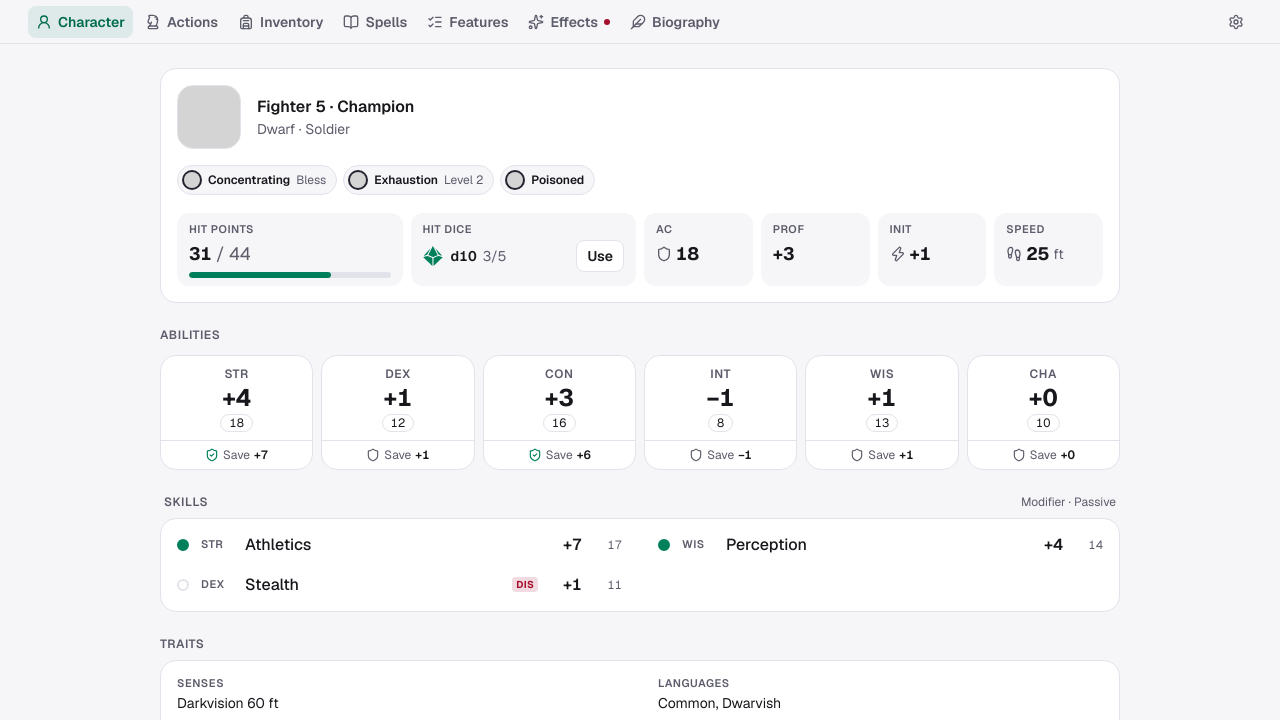
Test case: components/character-sheet/character-pane › shows Inventory
The image size is (1280, 720).
Click the tab "Inventory" at (281, 22), box [230,6,331,38]
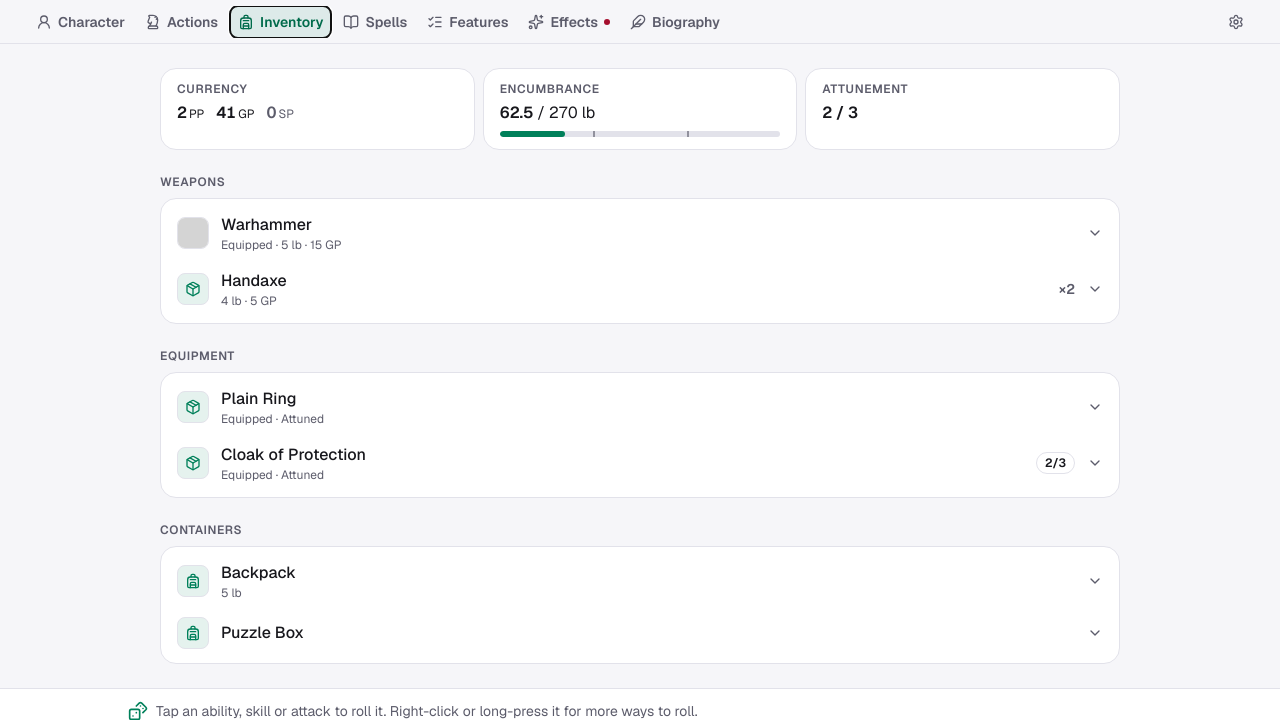
Expected: the heading "Weapons" is shown, [160,174,225,190]
